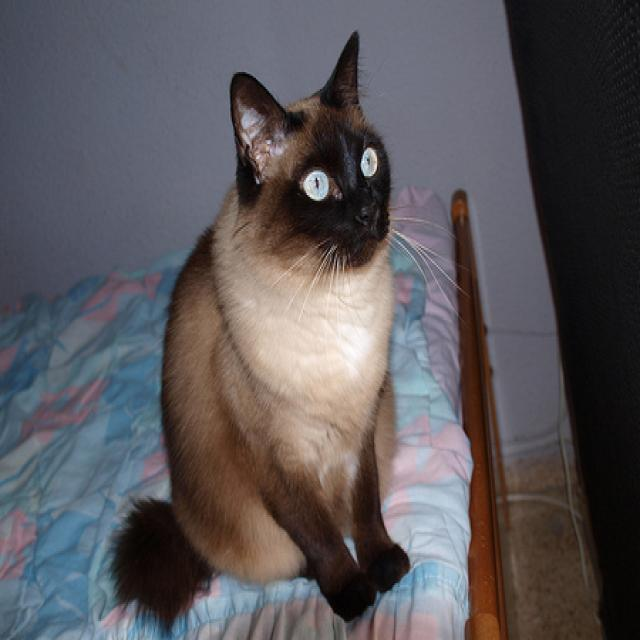Siamese: (104, 26, 414, 625)
